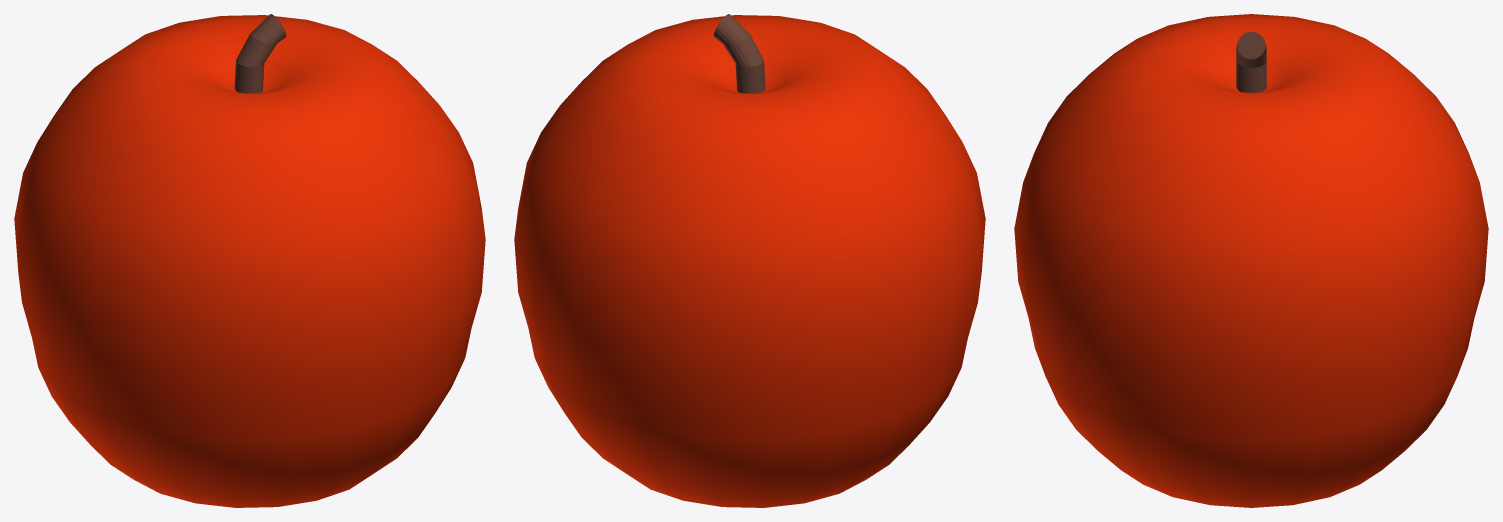
Rendered from VR APPLE MODEL.fbx.
3 views of the same model, side by side, from view 1: azimuth 30°, elevation 25°; view 2: azimuth 150°, elevation 25°; view 3: azimuth 270°, elevation 25° (orthographic).
Parts seen in each view (by area): view 1: pSphere2; view 2: pSphere2; view 3: pSphere2.
Boxes of the visible parts, box(x1,y1,x2,y2) form: pSphere2: box(14, 14, 485, 507); pSphere2: box(514, 14, 985, 507); pSphere2: box(1014, 14, 1488, 507).
Bounding box in the file's own units: 0.0526 × 0.0539 × 0.0526.
